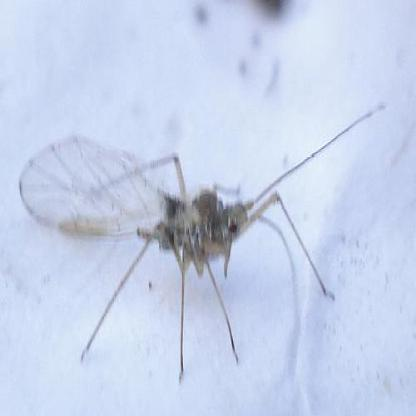aphid: (19, 117, 361, 381)
